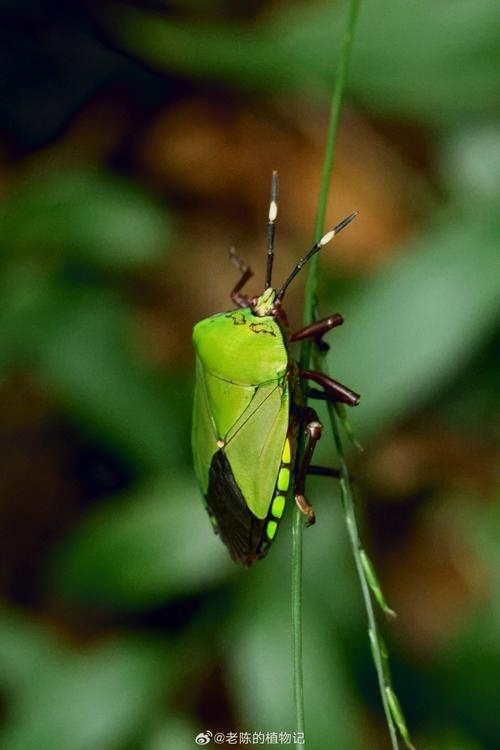Stink_Bug: (192, 237, 324, 575)
